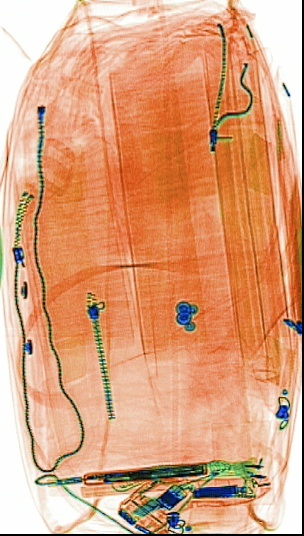powerbank: (188, 483, 240, 500)
